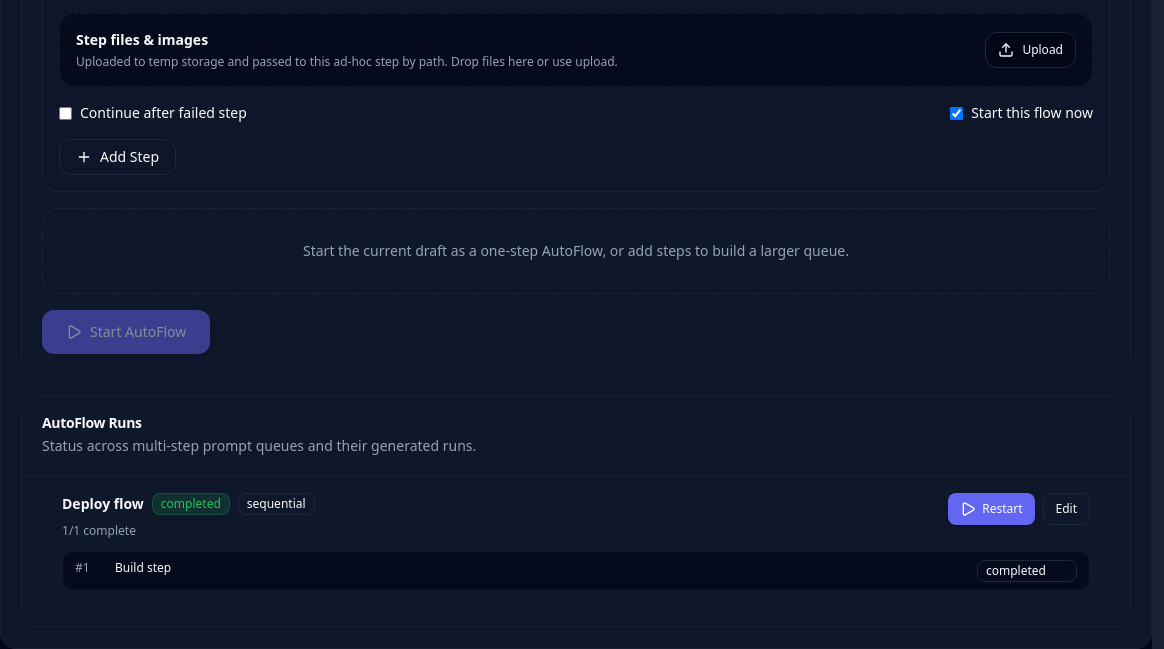
Test: AIRunnerPage › names AutoFlow runs in history and opens a clicked step there
(page scrolled)
Click the button titled "Open this step in history" at (143, 568), box top-left (62, 551), bottom-right (1090, 591)
(page scrolled)
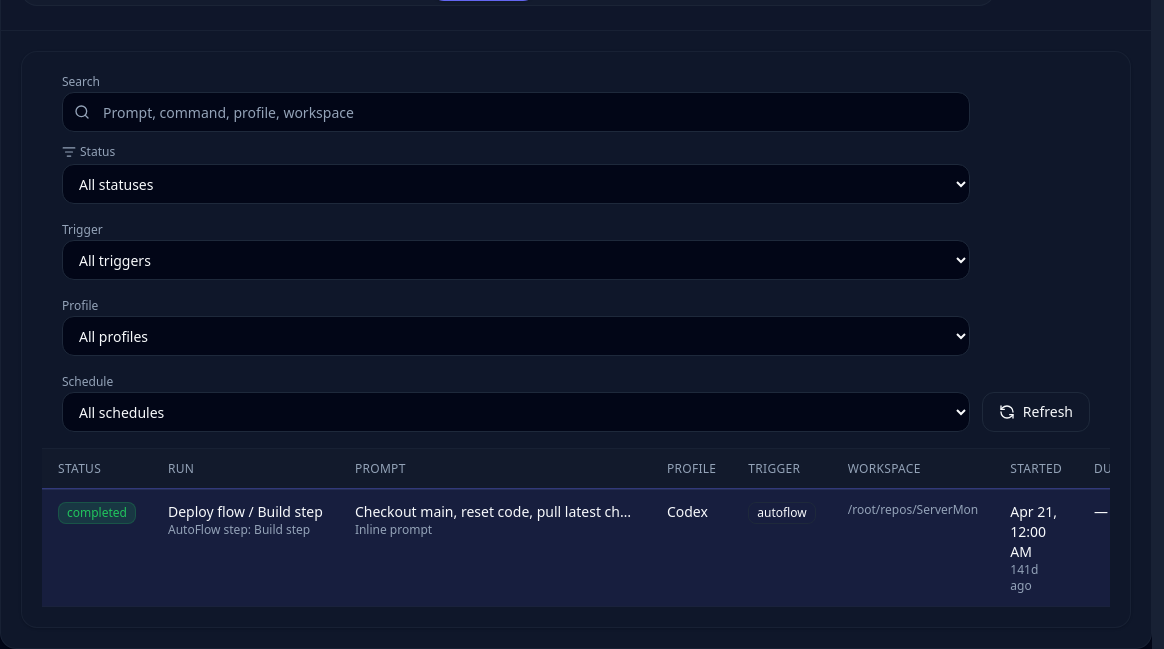
Result: the text "Deploy flow / Build step" is shown at top-left (168, 502), bottom-right (323, 522)
Result: the text "AutoFlow step: Build step" is shown at top-left (168, 522), bottom-right (323, 538)
